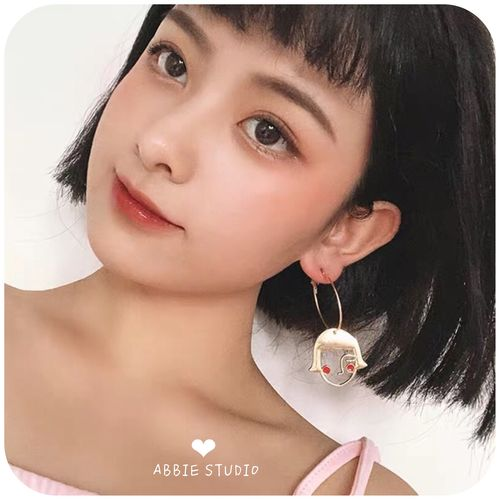no_mask: (73, 3, 414, 296)
